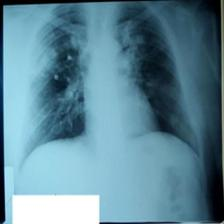tuberculosis: (20, 4, 206, 175)
